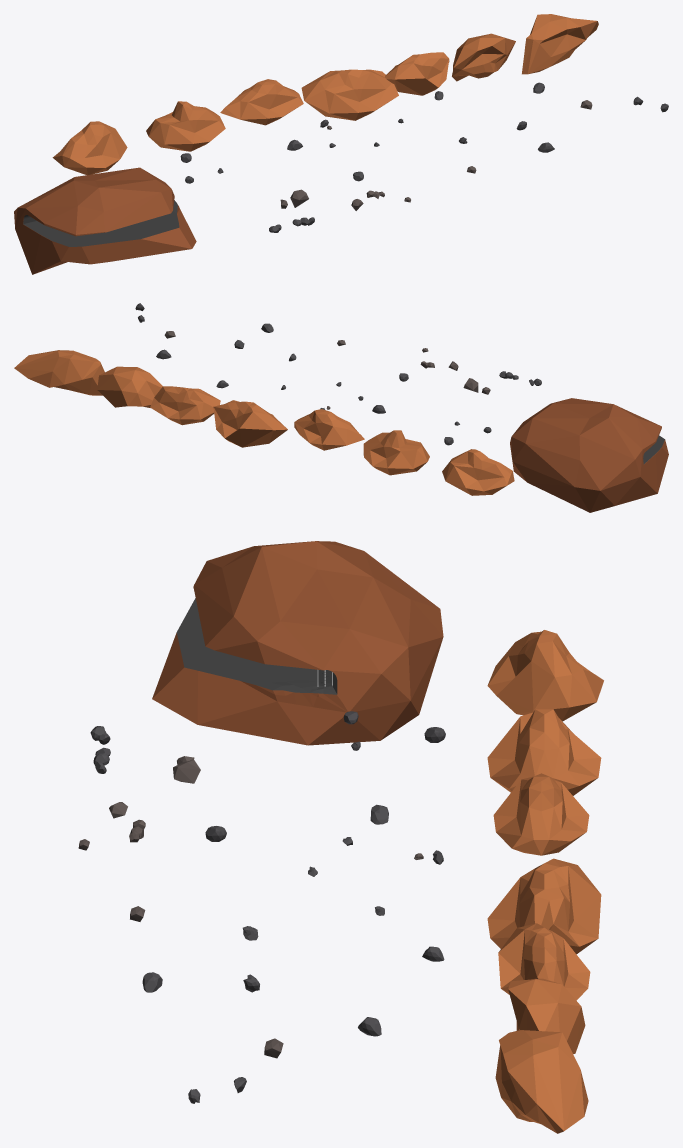
Rendered from 3_Desert_바다이어지는부분+배경.fbx.
The picture shows the model from 3 angles, top to bottom: view 1: azimuth 30°, elevation 25°; view 2: azimuth 150°, elevation 25°; view 3: azimuth 270°, elevation 25°; orthographic projection. The views are drawn at different scales.
Visible parts, largest first — view 1: 4_터널_산, 0_전체_배경요소_산.002, 0_전체_배경요소_산.006, 0_전체_배경요소_산.001, 0_전체_배경요소_산, 0_전체_배경요소_산.005, 0_전체_배경요소_산.003, 0_전체_배경요소_산.004; view 2: 4_터널_산, 0_전체_배경요소_산.006, 0_전체_배경요소_산.002, 0_전체_배경요소_산, 0_전체_배경요소_산.001, 0_전체_배경요소_산.003, 0_전체_배경요소_산.004, 0_전체_배경요소_산.005; view 3: 4_터널_산, 0_전체_배경요소_산.006, 0_전체_배경요소_산.002, 0_전체_배경요소_산, 0_전체_배경요소_산.001, 0_전체_배경요소_산.005, 0_전체_배경요소_산.004, 0_전체_배경요소_산.003.
Boxes of the visible parts, left/top/right/bottom form: 4_터널_산: left=14, top=167, right=196, bottom=274; 0_전체_배경요소_산.002: left=301, top=69, right=398, bottom=120; 0_전체_배경요소_산.006: left=522, top=14, right=598, bottom=74; 0_전체_배경요소_산.001: left=146, top=101, right=225, bottom=151; 0_전체_배경요소_산: left=52, top=121, right=127, bottom=174; 0_전체_배경요소_산.005: left=220, top=79, right=303, bottom=125; 0_전체_배경요소_산.003: left=452, top=33, right=515, bottom=81; 0_전체_배경요소_산.004: left=385, top=52, right=449, bottom=95; 4_터널_산: left=510, top=398, right=668, bottom=512; 0_전체_배경요소_산.006: left=14, top=350, right=104, bottom=395; 0_전체_배경요소_산.002: left=213, top=400, right=287, bottom=447; 0_전체_배경요소_산: left=442, top=449, right=514, bottom=495; 0_전체_배경요소_산.001: left=363, top=430, right=429, bottom=475; 0_전체_배경요소_산.003: left=97, top=366, right=162, bottom=407; 0_전체_배경요소_산.004: left=150, top=386, right=220, bottom=425; 0_전체_배경요소_산.005: left=294, top=409, right=364, bottom=450; 4_터널_산: left=152, top=541, right=443, bottom=745; 0_전체_배경요소_산.006: left=495, top=1030, right=588, bottom=1133; 0_전체_배경요소_산.002: left=487, top=858, right=601, bottom=954; 0_전체_배경요소_산: left=487, top=630, right=603, bottom=721; 0_전체_배경요소_산.001: left=487, top=709, right=601, bottom=795; 0_전체_배경요소_산.005: left=493, top=773, right=589, bottom=855; 0_전체_배경요소_산.004: left=498, top=923, right=590, bottom=1000; 0_전체_배경요소_산.003: left=508, top=978, right=585, bottom=1053.
Bounding box in the file's own units: 127807 × 15674 × 50487.
